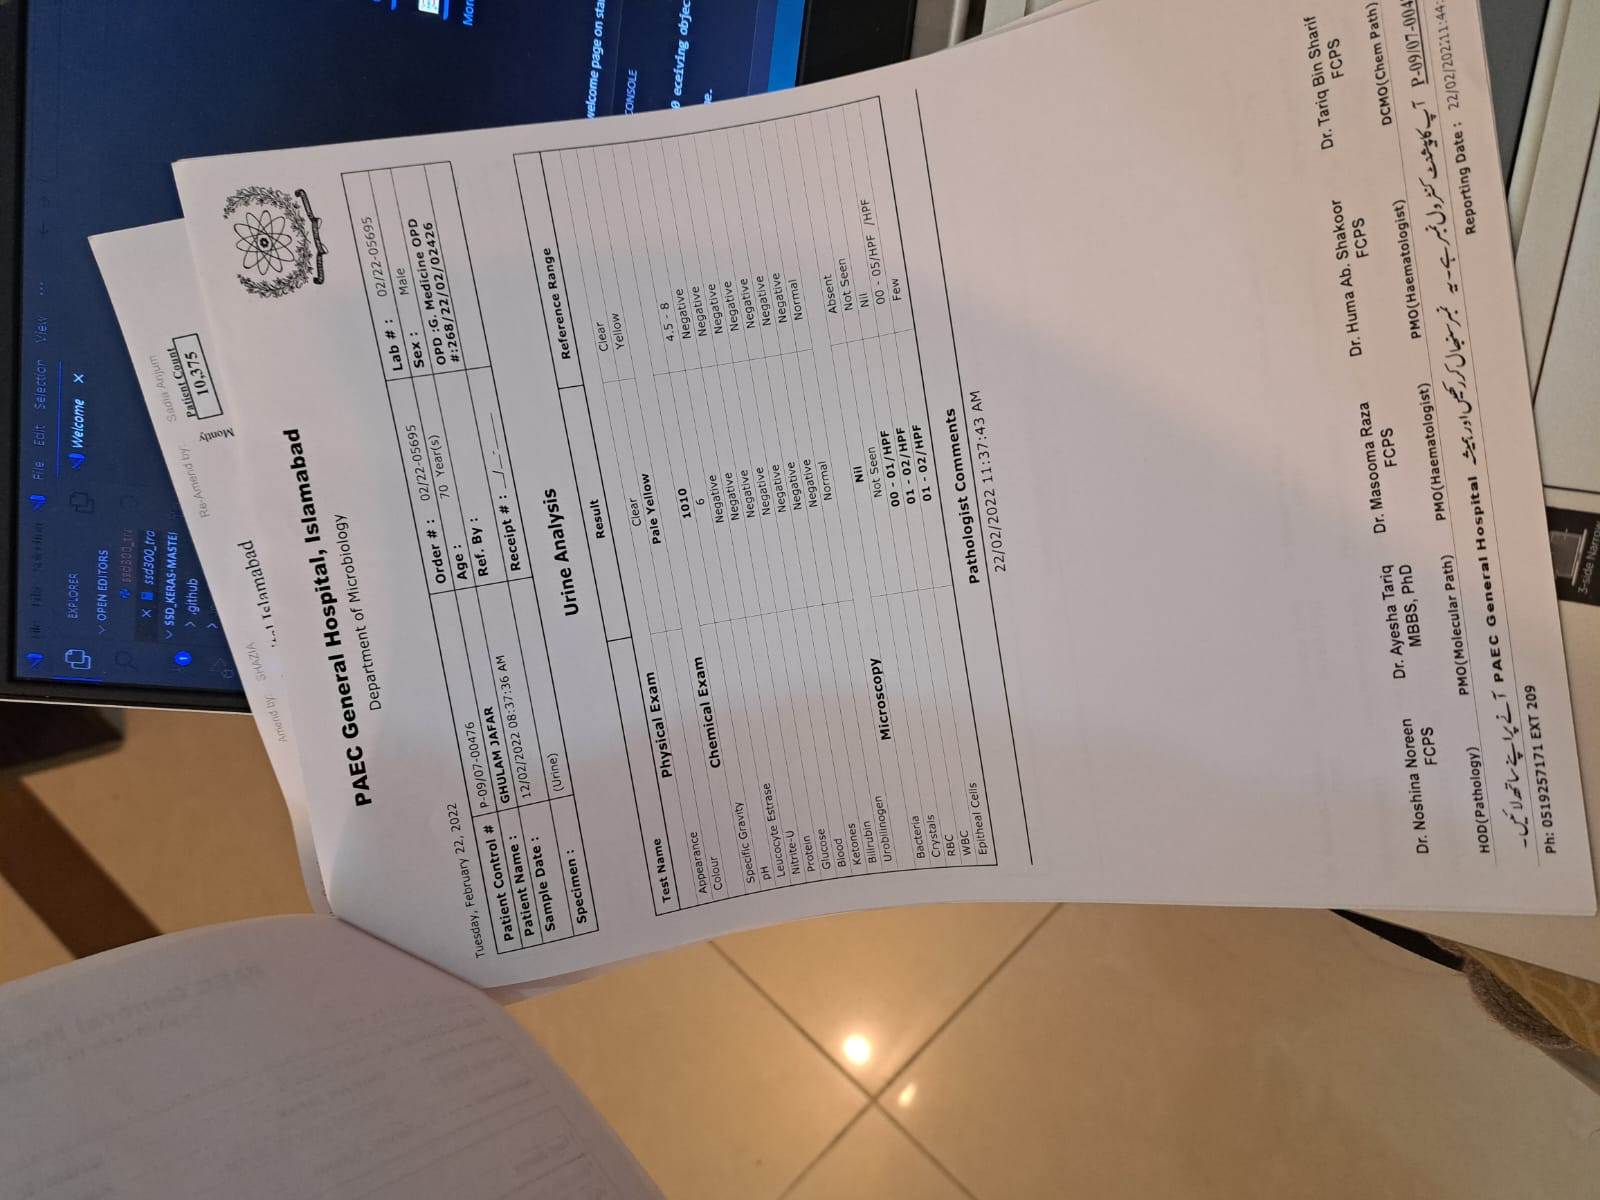report: (480, 100, 1008, 919)
